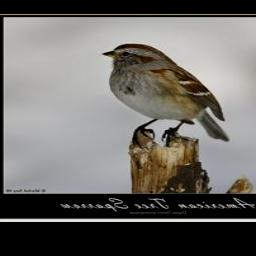Sparrow: (103, 42, 231, 148)
